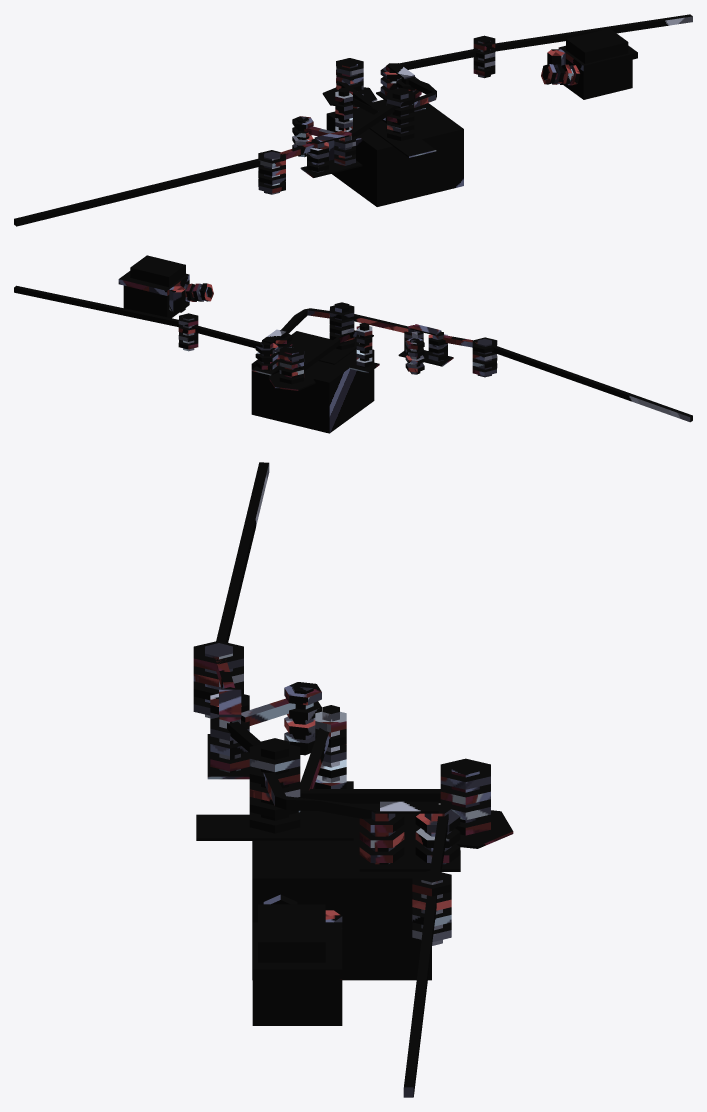
The model's file is ss8_roof.obj.
3 renders of one model, top to bottom at view 1: azimuth 30°, elevation 25°; view 2: azimuth 150°, elevation 25°; view 3: azimuth 270°, elevation 25°, orthographic. The views are drawn at different scales.
Parts seen in each view (by area): view 1: cube; view 2: cube; view 3: cube.
Part boxes in pixels (x1=…): cube: x1=14, y1=14, x2=692, y2=226; cube: x1=14, y1=255, x2=692, y2=433; cube: x1=193, y1=462, x2=513, y2=1097.
Size of the model in its own units: 8.24 by 1.14 by 1.78.
